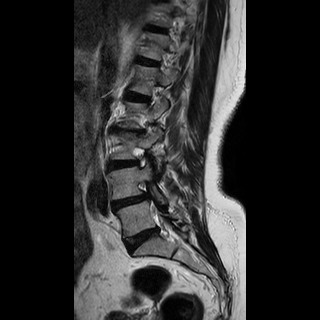RFS0: (127, 139, 153, 174)
